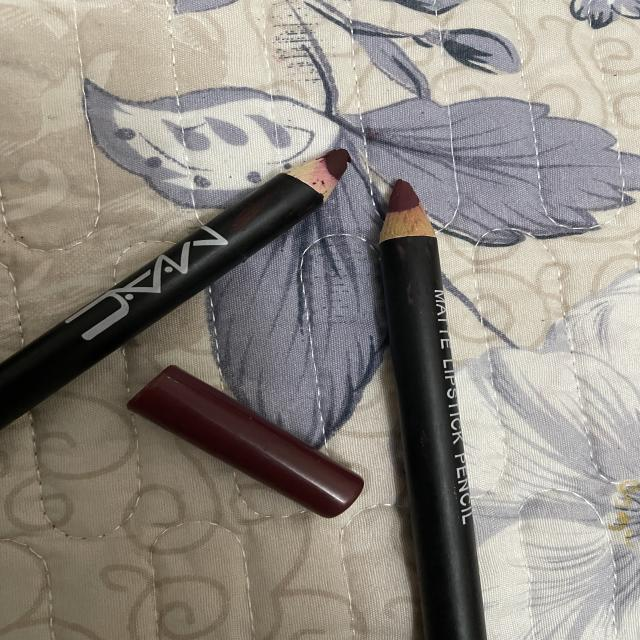lip liner: (0, 131, 362, 436), (369, 174, 499, 640)
